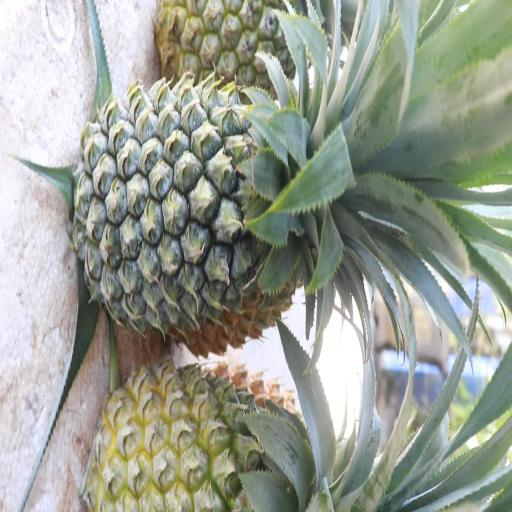------------------------------: (93, 365, 328, 512)
